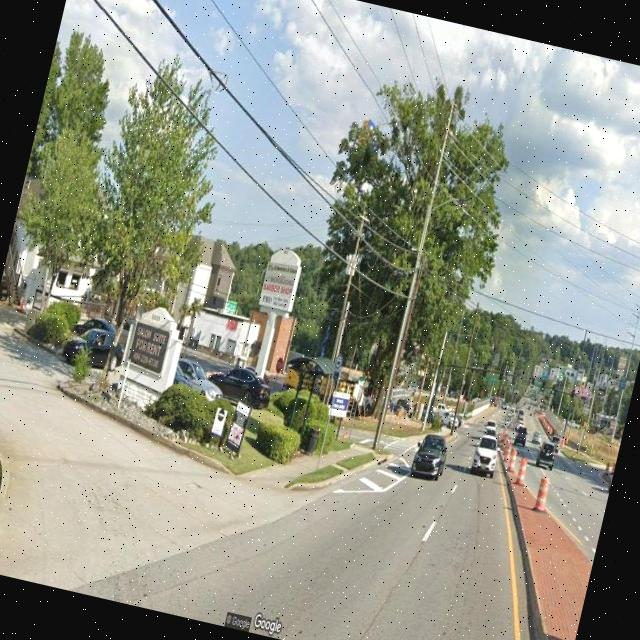shelter: (266, 350, 342, 461)
trash_can: (532, 473, 552, 512), (304, 425, 321, 457)
